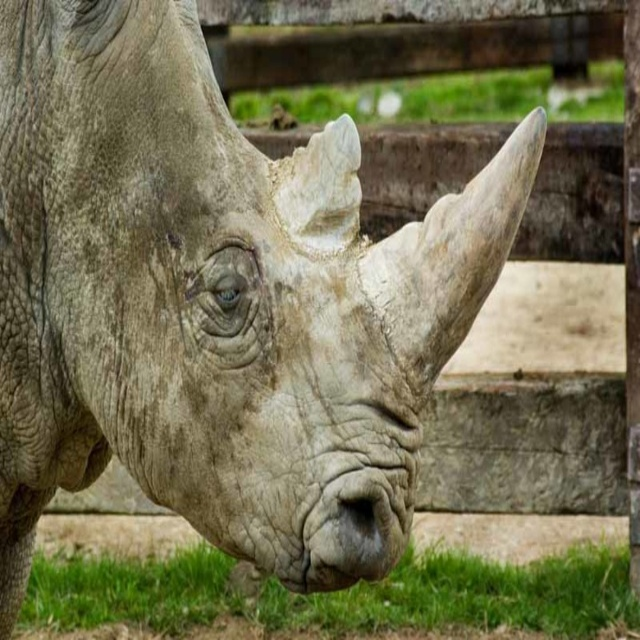Rhinoceros: (0, 0, 549, 639)
